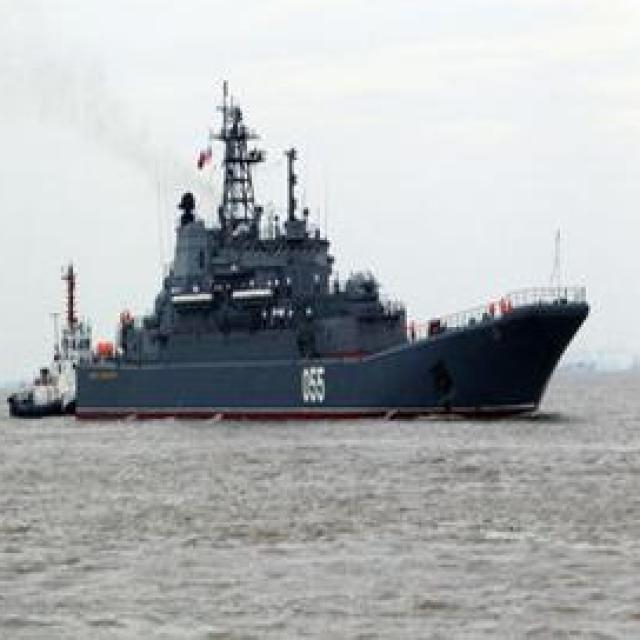houseboat: (8, 257, 106, 420)
navalvessels: (76, 84, 587, 421)
